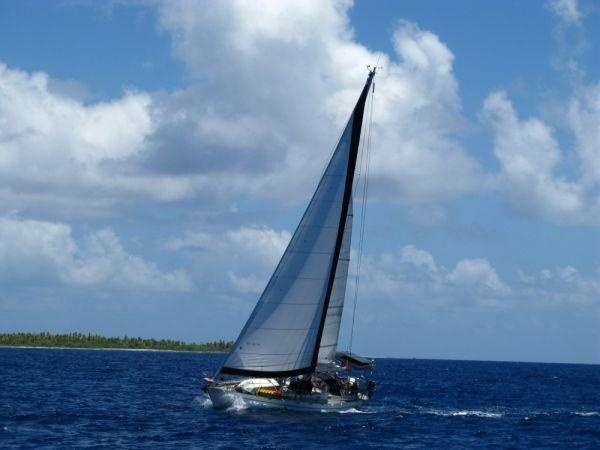fanchuan: (196, 58, 413, 417)
